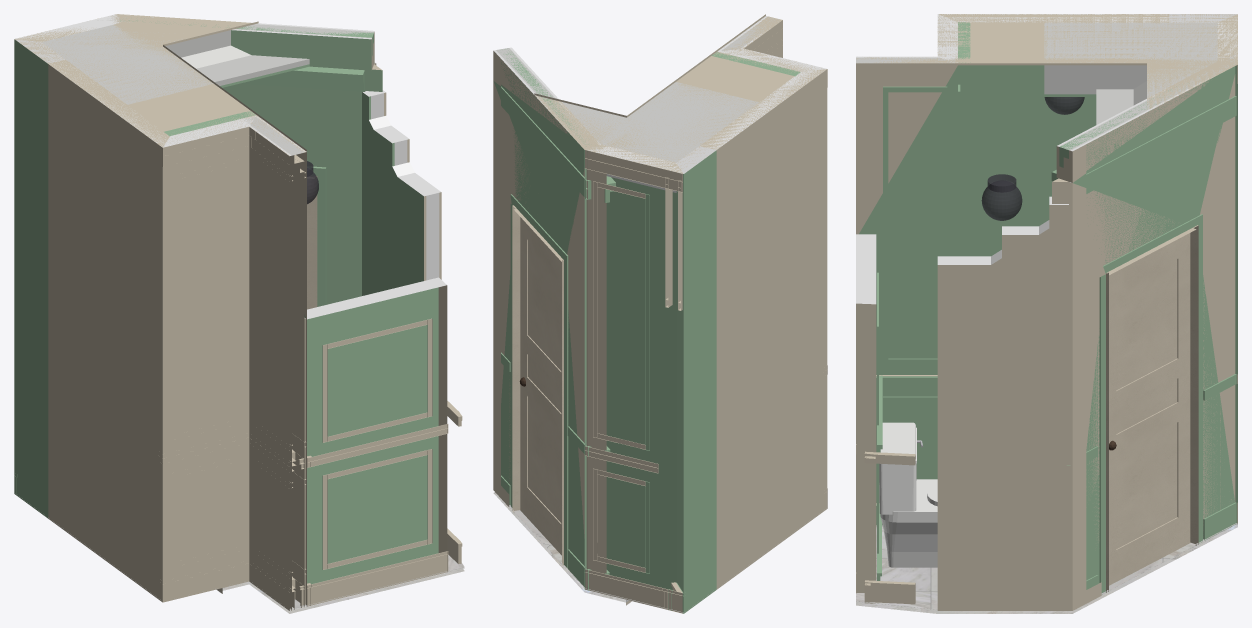
The model's file is powder-room-82a180556c72.glb.
3 renders of one model, left to right at view 1: azimuth 30°, elevation 25°; view 2: azimuth 150°, elevation 25°; view 3: azimuth 270°, elevation 25°, orthographic. The views are drawn at different scales.
Visible parts, largest first — view 1: powder-room-d33eebe572d154f2, powder-room-1a8091885ac212af, powder-room-ab5cb5e7d303dd66, powder-room-85f0fd939e0fcc78, powder-room-a5eabba2ad6474eb, powder-room-9b21989b25895c4a, powder-room-2575515a05775d9e, powder-room-5b07a8f5f7929ff6, powder-room-3d7935a3f1355396, powder-room-e5e2173c4bbfdbc5, powder-room-d73aa2fd0c2e74ea, powder-room-c56c1017208455ae (+8 smaller); view 2: powder-room-d33eebe572d154f2, powder-room-a5eabba2ad6474eb, powder-room-b2b5f93b4255576d, powder-room-9b21989b25895c4a, powder-room-539cd4ce99668665, powder-room-2575515a05775d9e, powder-room-5b07a8f5f7929ff6, powder-room-86d6fc7292b21ae1, powder-room-ae2ab6de1156d266, powder-room-48dc2409da547ff7, powder-room-f5fbb4dd3b92b4c5, powder-room-60b0468410271b8c (+11 smaller); view 3: powder-room-d65b0a574c2ac13c, powder-room-a5eabba2ad6474eb, powder-room-85f0fd939e0fcc78, powder-room-539cd4ce99668665, powder-room-d33eebe572d154f2, powder-room-2575515a05775d9e, powder-room-5b07a8f5f7929ff6, powder-room-ab5cb5e7d303dd66, powder-room-f6adfe3ce82dbdf9, powder-room-48dc2409da547ff7, powder-room-86d6fc7292b21ae1, powder-room-e08d4ba707d0aa50 (+18 smaller).
Part boxes in pixels (x1=…): powder-room-d33eebe572d154f2: x1=48, y1=60, x2=167, y2=601; powder-room-1a8091885ac212af: x1=163, y1=116, x2=255, y2=602; powder-room-ab5cb5e7d303dd66: x1=306, y1=277, x2=447, y2=605; powder-room-85f0fd939e0fcc78: x1=243, y1=115, x2=306, y2=610; powder-room-a5eabba2ad6474eb: x1=97, y1=14, x2=382, y2=304; powder-room-9b21989b25895c4a: x1=14, y1=39, x2=64, y2=518; powder-room-2575515a05775d9e: x1=14, y1=14, x2=306, y2=155; powder-room-5b07a8f5f7929ff6: x1=42, y1=24, x2=309, y2=104; powder-room-3d7935a3f1355396: x1=362, y1=92, x2=426, y2=295; powder-room-e5e2173c4bbfdbc5: x1=307, y1=551, x2=448, y2=606; powder-room-d73aa2fd0c2e74ea: x1=365, y1=91, x2=439, y2=280; powder-room-c56c1017208455ae: x1=322, y1=318, x2=432, y2=442; powder-room-d33eebe572d154f2: x1=701, y1=69, x2=827, y2=589; powder-room-a5eabba2ad6474eb: x1=493, y1=47, x2=606, y2=589; powder-room-b2b5f93b4255576d: x1=584, y1=145, x2=683, y2=593; powder-room-9b21989b25895c4a: x1=676, y1=146, x2=716, y2=613; powder-room-539cd4ce99668665: x1=520, y1=217, x2=561, y2=555; powder-room-2575515a05775d9e: x1=534, y1=14, x2=826, y2=173; powder-room-5b07a8f5f7929ff6: x1=562, y1=82, x2=758, y2=162; powder-room-86d6fc7292b21ae1: x1=512, y1=205, x2=563, y2=565; powder-room-ae2ab6de1156d266: x1=593, y1=181, x2=649, y2=450; powder-room-48dc2409da547ff7: x1=510, y1=194, x2=568, y2=567; powder-room-f5fbb4dd3b92b4c5: x1=585, y1=569, x2=682, y2=613; powder-room-60b0468410271b8c: x1=585, y1=150, x2=682, y2=192; powder-room-d65b0a574c2ac13c: x1=937, y1=204, x2=1068, y2=610; powder-room-a5eabba2ad6474eb: x1=1052, y1=54, x2=1235, y2=610; powder-room-85f0fd939e0fcc78: x1=856, y1=56, x2=957, y2=503; powder-room-539cd4ce99668665: x1=1109, y1=233, x2=1190, y2=585; powder-room-d33eebe572d154f2: x1=938, y1=14, x2=1169, y2=256; powder-room-2575515a05775d9e: x1=856, y1=14, x2=1237, y2=110; powder-room-5b07a8f5f7929ff6: x1=1044, y1=22, x2=1217, y2=124; powder-room-ab5cb5e7d303dd66: x1=856, y1=234, x2=876, y2=592; powder-room-f6adfe3ce82dbdf9: x1=879, y1=422, x2=937, y2=567; powder-room-48dc2409da547ff7: x1=1099, y1=214, x2=1202, y2=594; powder-room-86d6fc7292b21ae1: x1=1106, y1=225, x2=1198, y2=592; powder-room-e08d4ba707d0aa50: x1=883, y1=86, x2=947, y2=364.
Size of the model in its own units: 1.92 by 3.05 by 2.26.
20 materials, 4 textured.
